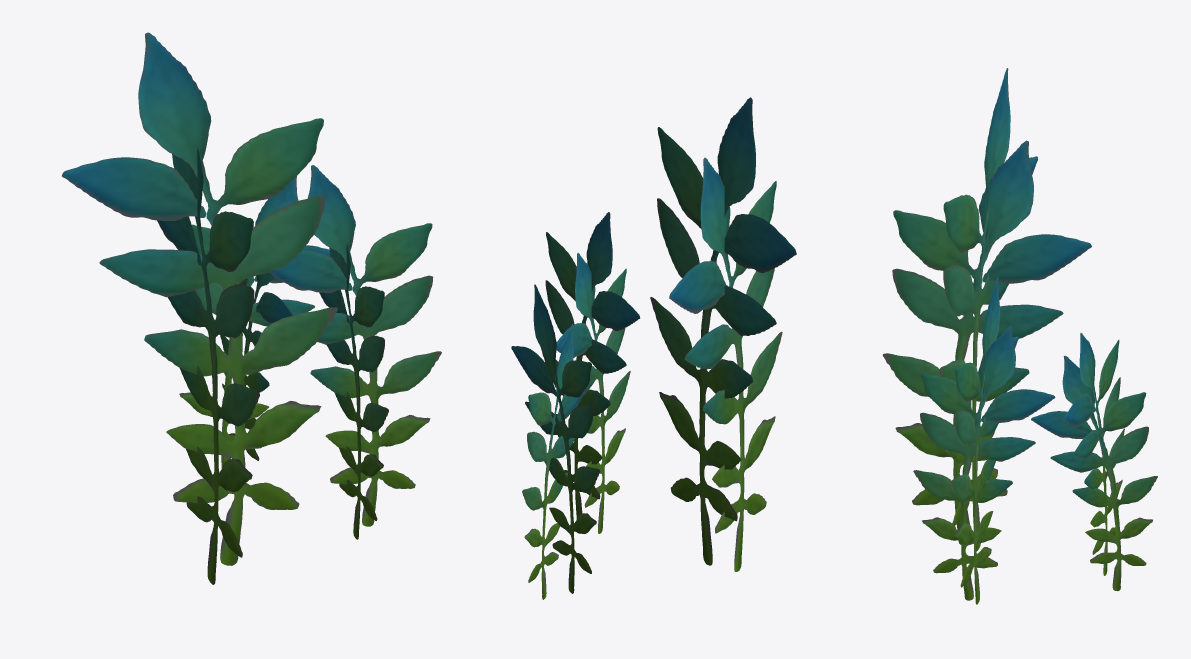
Rendered from spirit_leaf.FBX.
3 renders of one model, left to right at view 1: azimuth 30°, elevation 25°; view 2: azimuth 150°, elevation 25°; view 3: azimuth 270°, elevation 25°, orthographic. The views are drawn at different scales.
Visible parts, largest first — view 1: Object016; view 2: Object016; view 3: Object016.
Boxes of the visible parts, x1,y1,x2,y2 form: Object016: (62, 32, 441, 584); Object016: (511, 97, 796, 599); Object016: (882, 68, 1157, 604).
Size of the model in its own units: 19.11 by 27.22 by 16.31.
